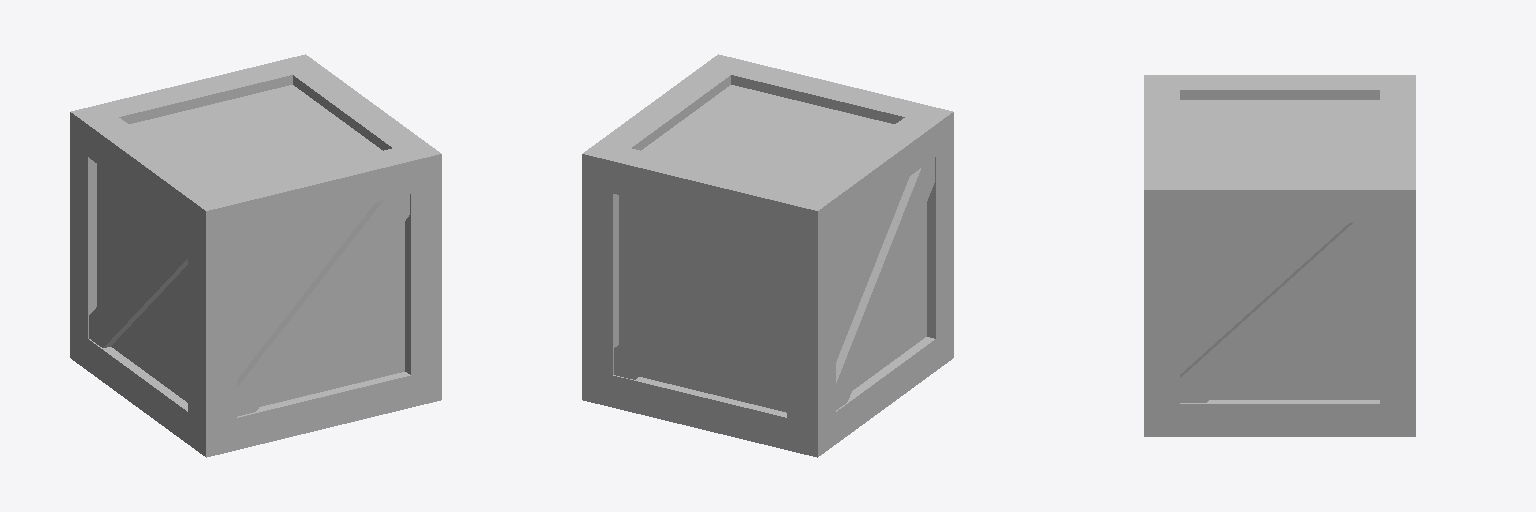
File: Crate.obj
3 renders of one model, left to right at view 1: azimuth 30°, elevation 25°; view 2: azimuth 150°, elevation 25°; view 3: azimuth 270°, elevation 25°, orthographic.
Parts seen in each view (by area): view 1: Box001; view 2: Box001; view 3: Box001.
Part boxes in pixels (x1,y1,x2,y2): Box001: (70, 54, 441, 457); Box001: (582, 54, 953, 457); Box001: (1144, 75, 1415, 436).
Bounding box in the file's own units: 60 × 60 × 60.